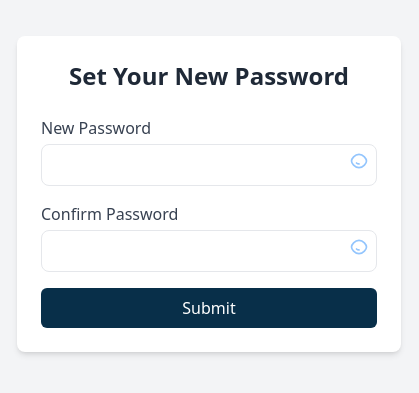
it: ResetPassword Component › shows error message if passwords do not match
Simulate entering mismatched passwords
Type "password1" into the password field with test id "password-input".
click(209, 165); type("password1")  # box [41,144,377,186]
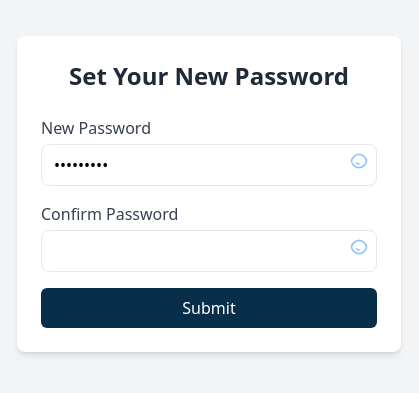
Type "password2" into the password field with test id "confirm-password-input".
click(209, 251); type("password2")  # box [41,230,377,272]
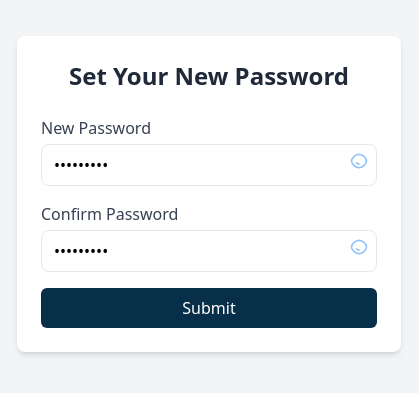
Click the button with test id "submit-button".
click(209, 308)  # box [41,288,377,328]
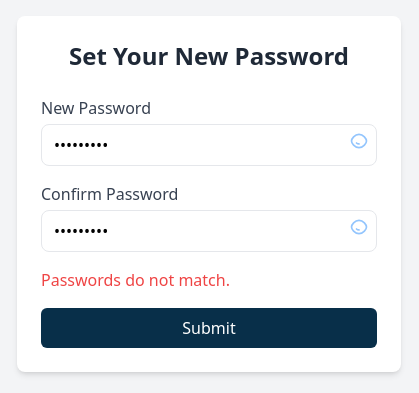
Result: the text with test id "error-message" reads "Passwords do not match." at [41,269,230,291]
